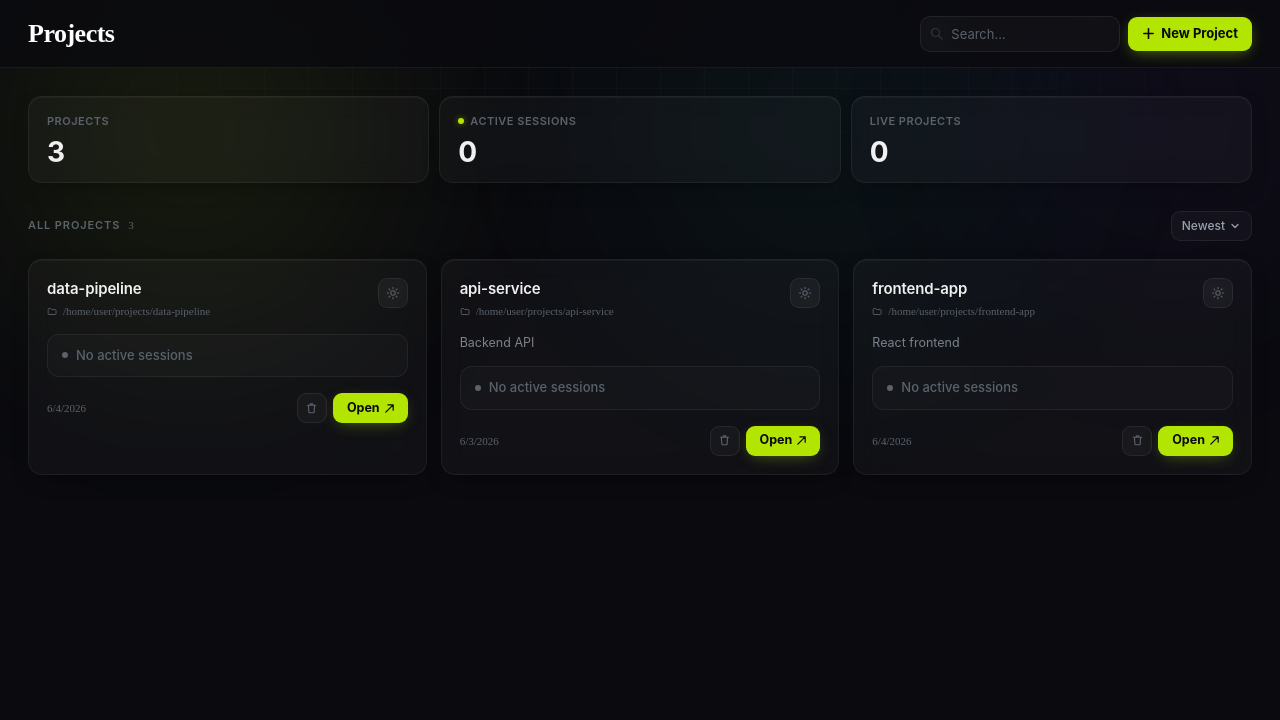
it: ProjectsPage › harness selector › shows loading state for harnesses
The width and height of the screenshot is (1280, 720).
Check: the heading "api-service" is shown, box [460,278,541,298]
Note: Open create modal
Click the button "New Project" at (1190, 34), box [1128,16,1252,50]
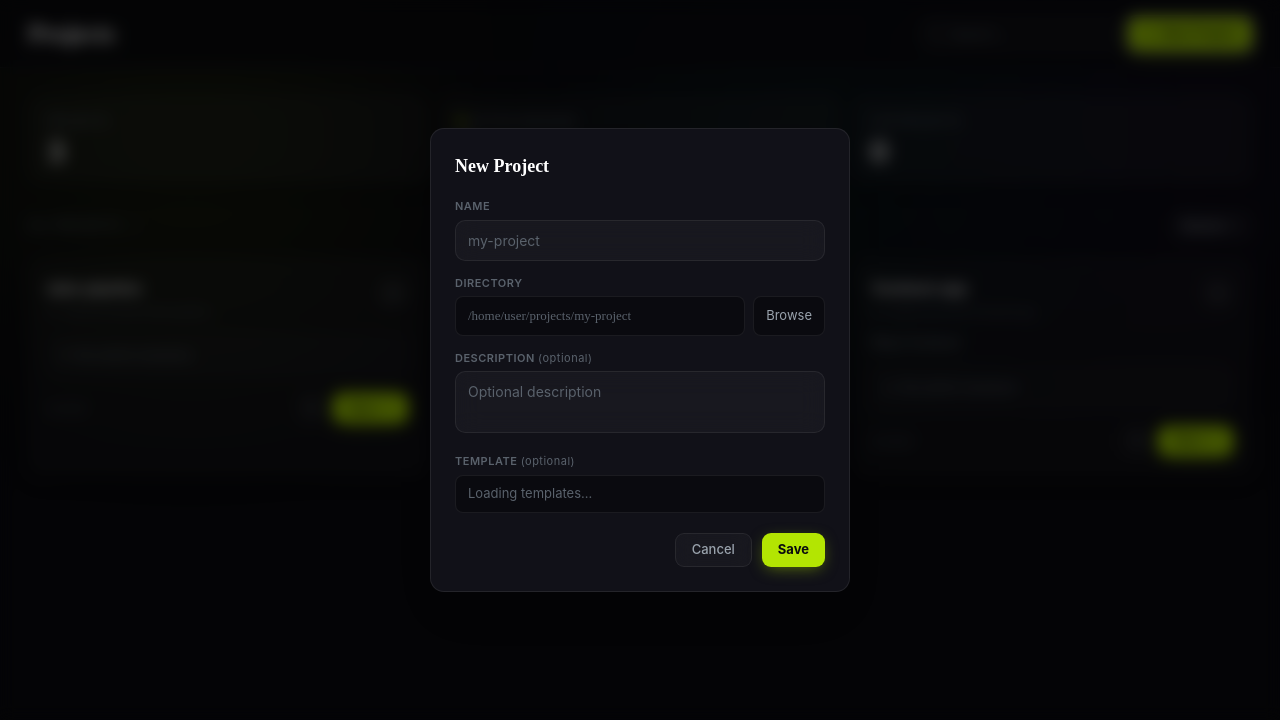
Check: the text "Loading templates…" is shown, box [468,484,592,504]
